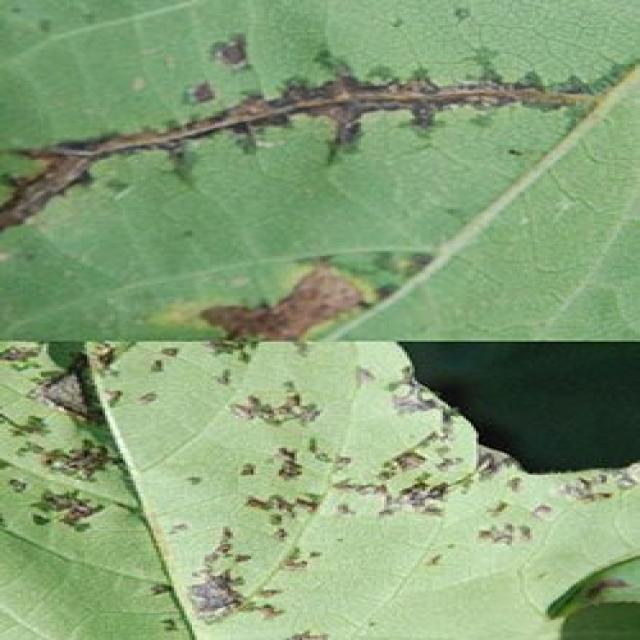Bacterial Blight: (7, 352, 513, 640), (5, 42, 640, 264)
